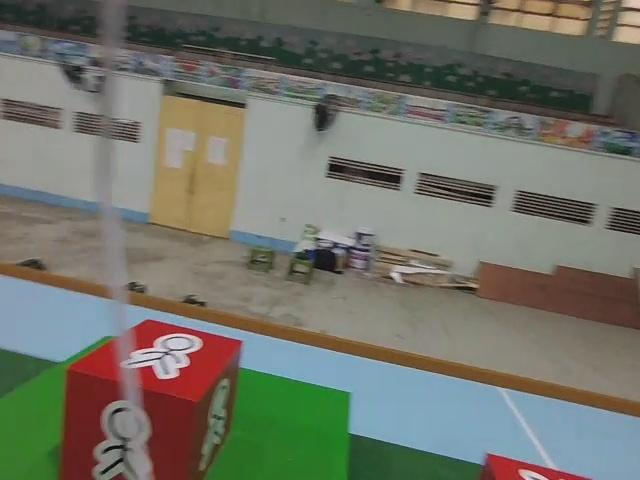R2 Real: (59, 316, 245, 480)
